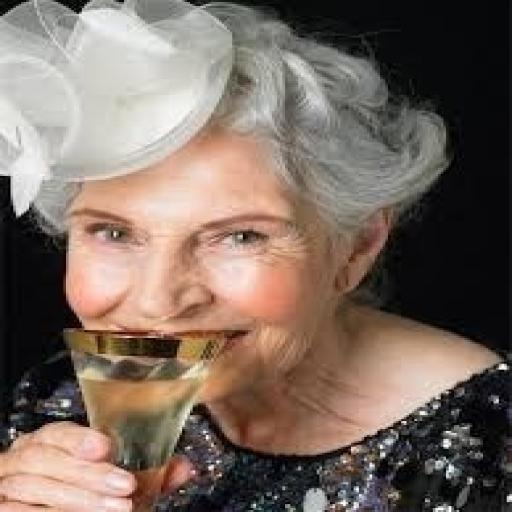drinking: (58, 326, 240, 475)
